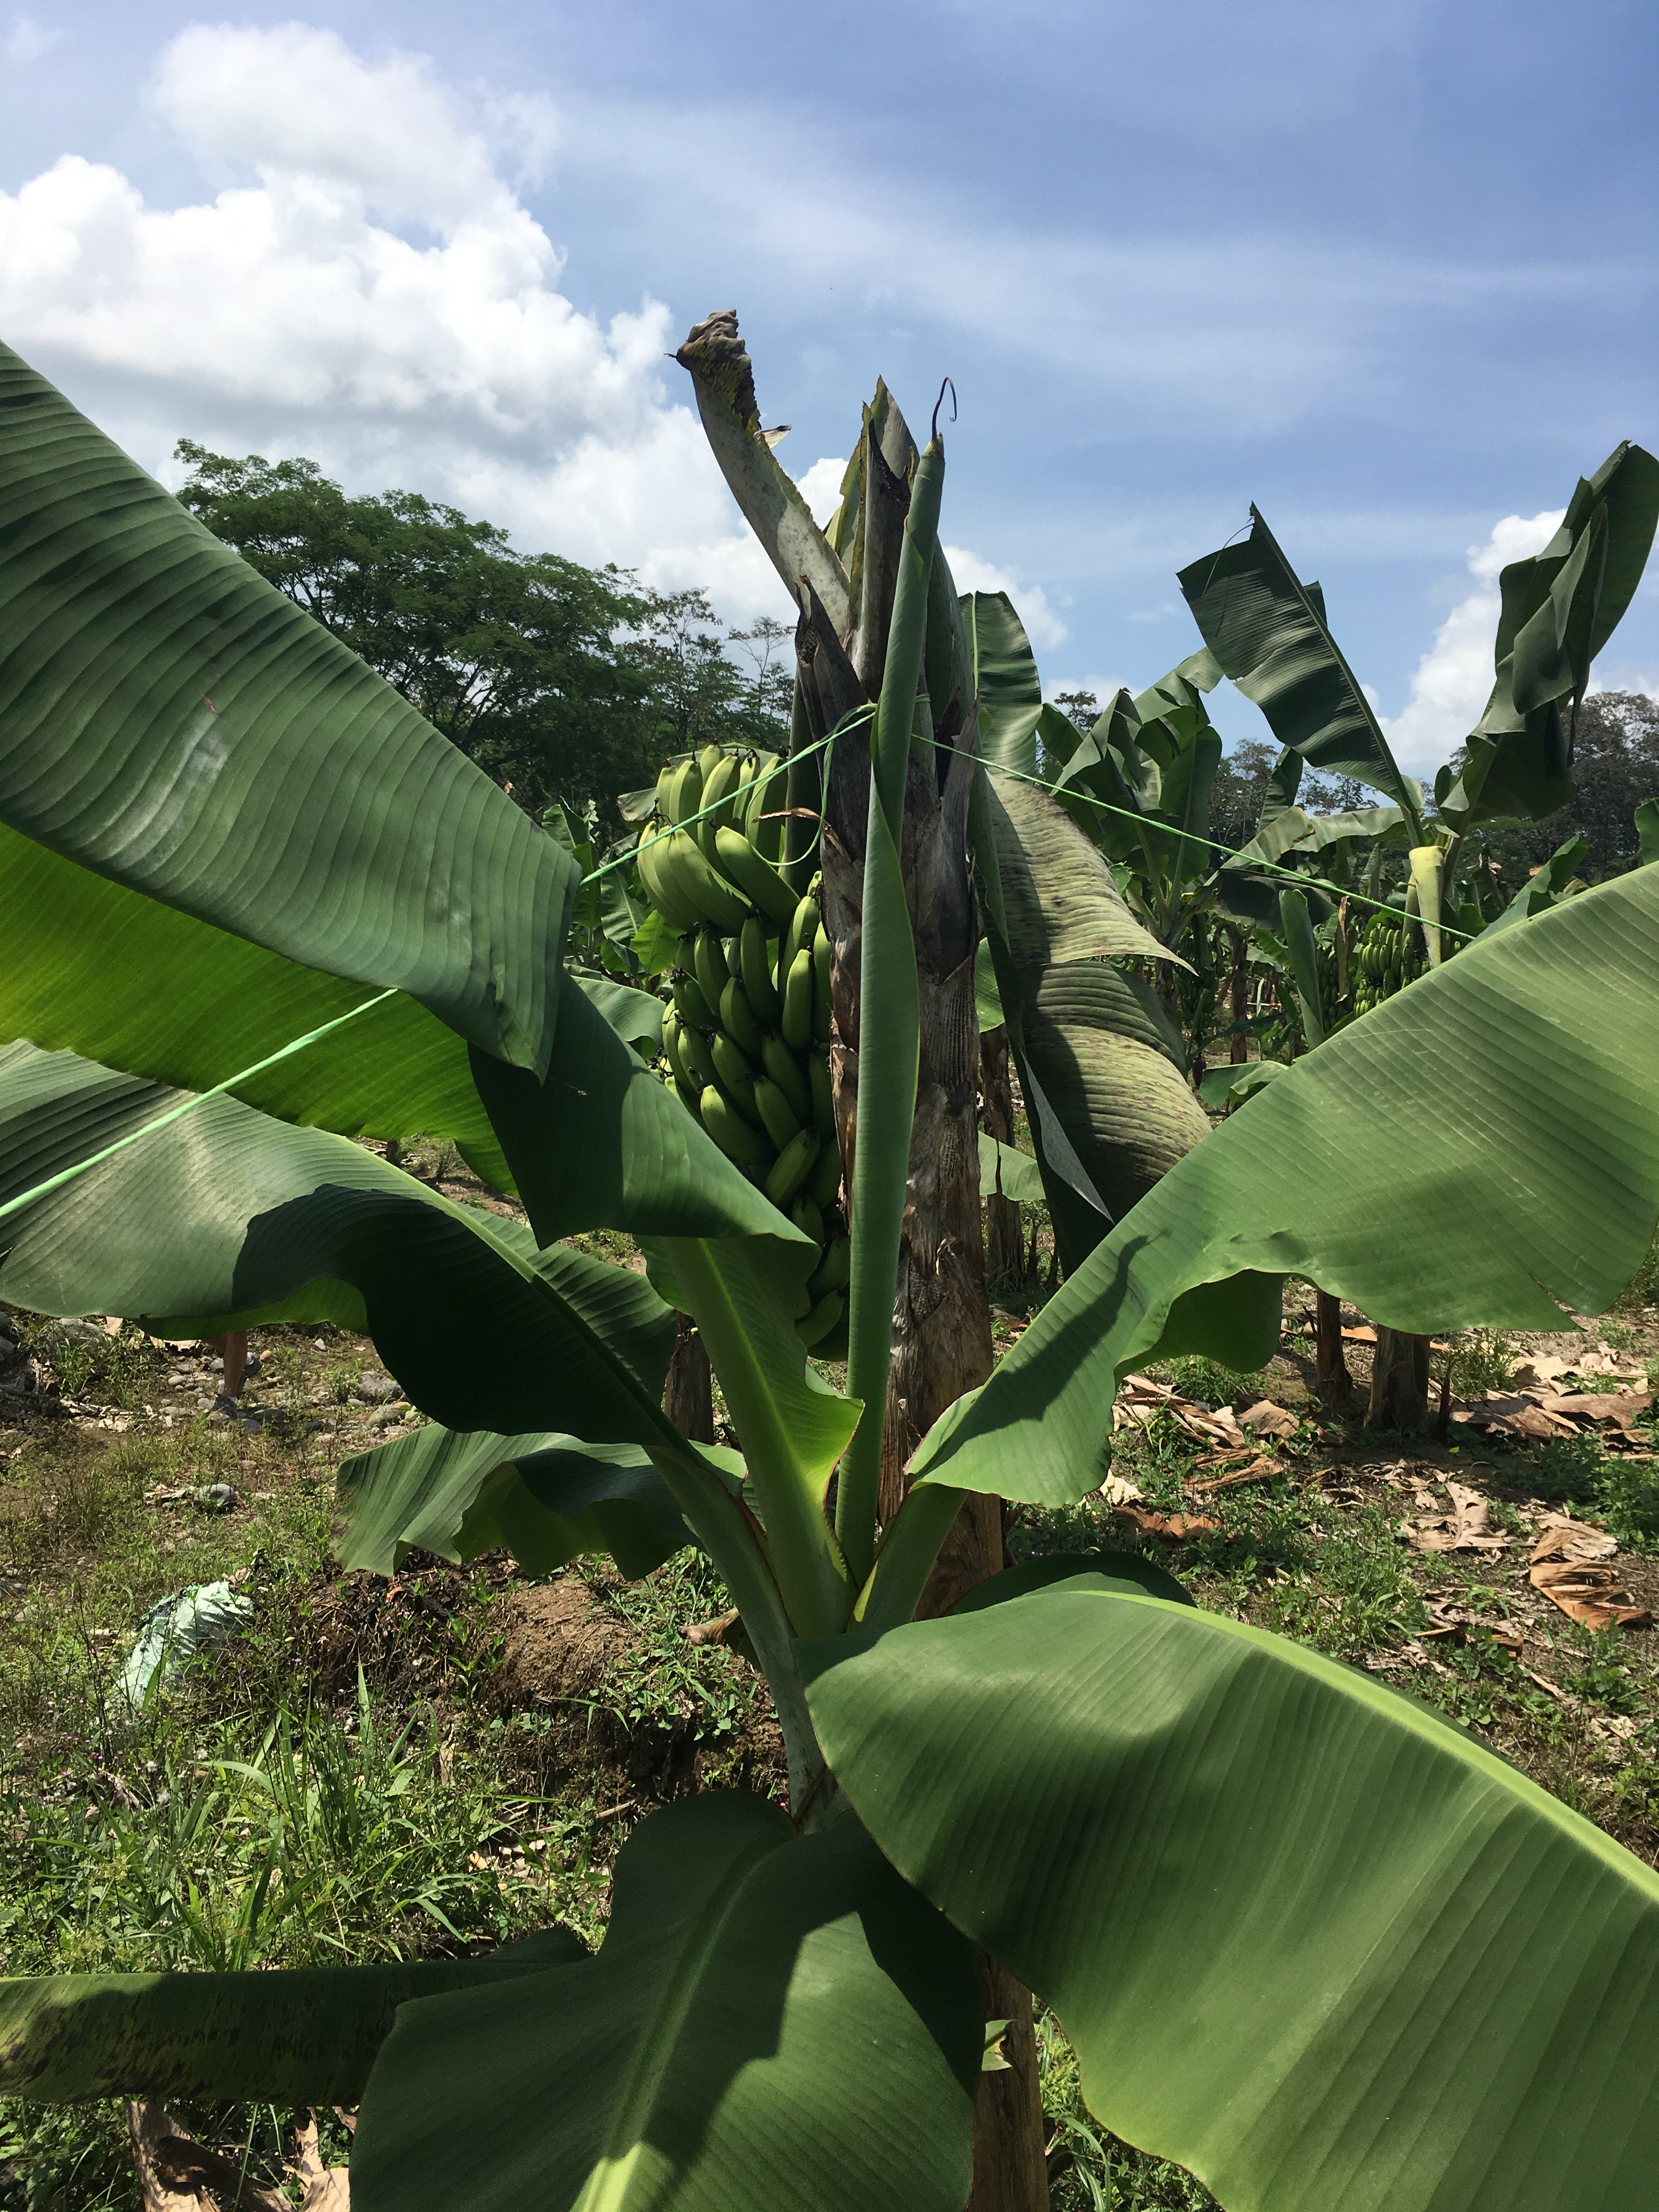candleleafs: (842, 380, 965, 1378)
